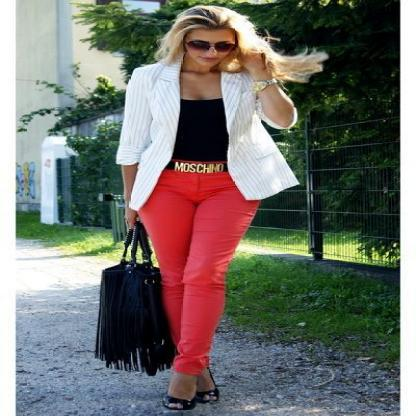bag: (91, 213, 178, 374)
jacket: (117, 58, 300, 210)
pants: (137, 169, 259, 374)
shirt: (164, 98, 228, 171)
shoe: (165, 376, 221, 410)
sunglass: (189, 28, 239, 52)
